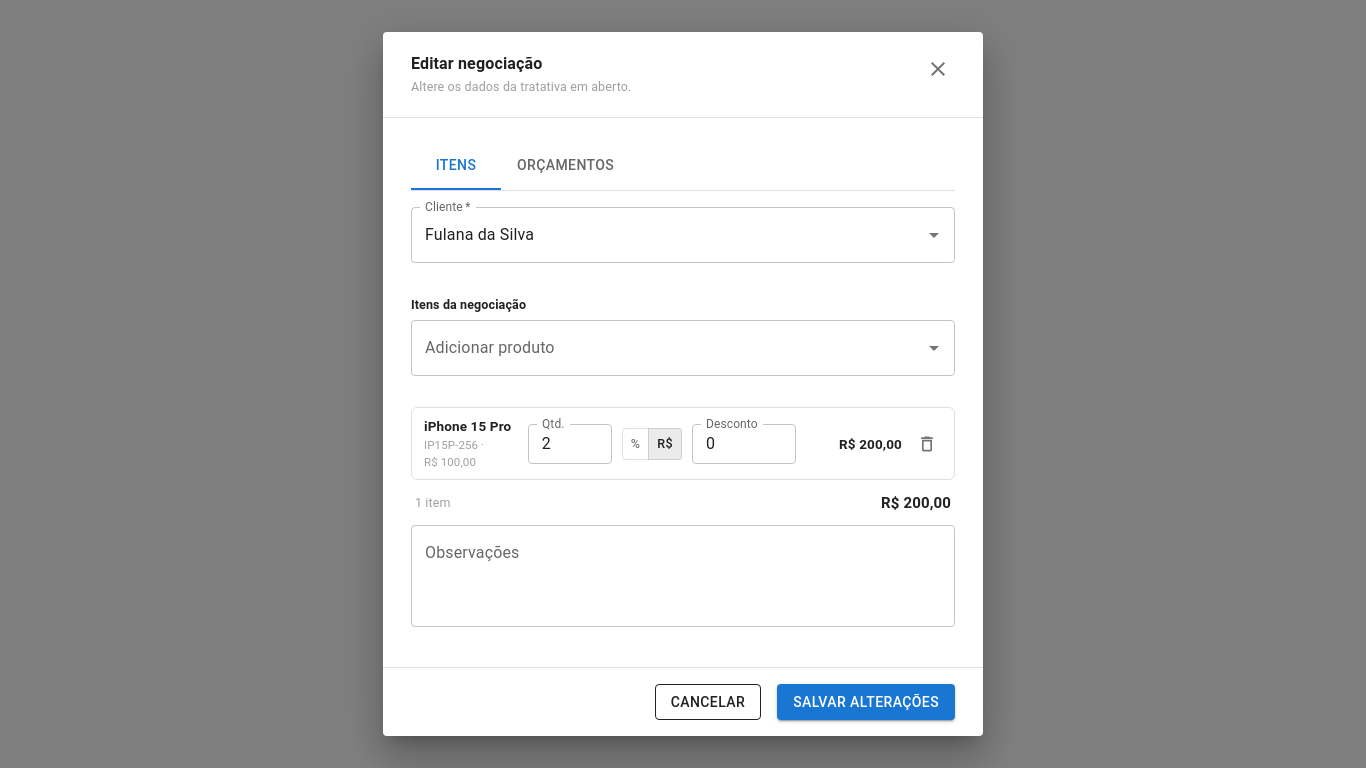
it: NegotiationFormModal — validações do item (ticket 06) › quantidade inválida aponta o erro na linha e não envia (história 44)
Click the number field labelled "Qtd.": (570, 444) x1=528 y1=424 x2=612 y2=464
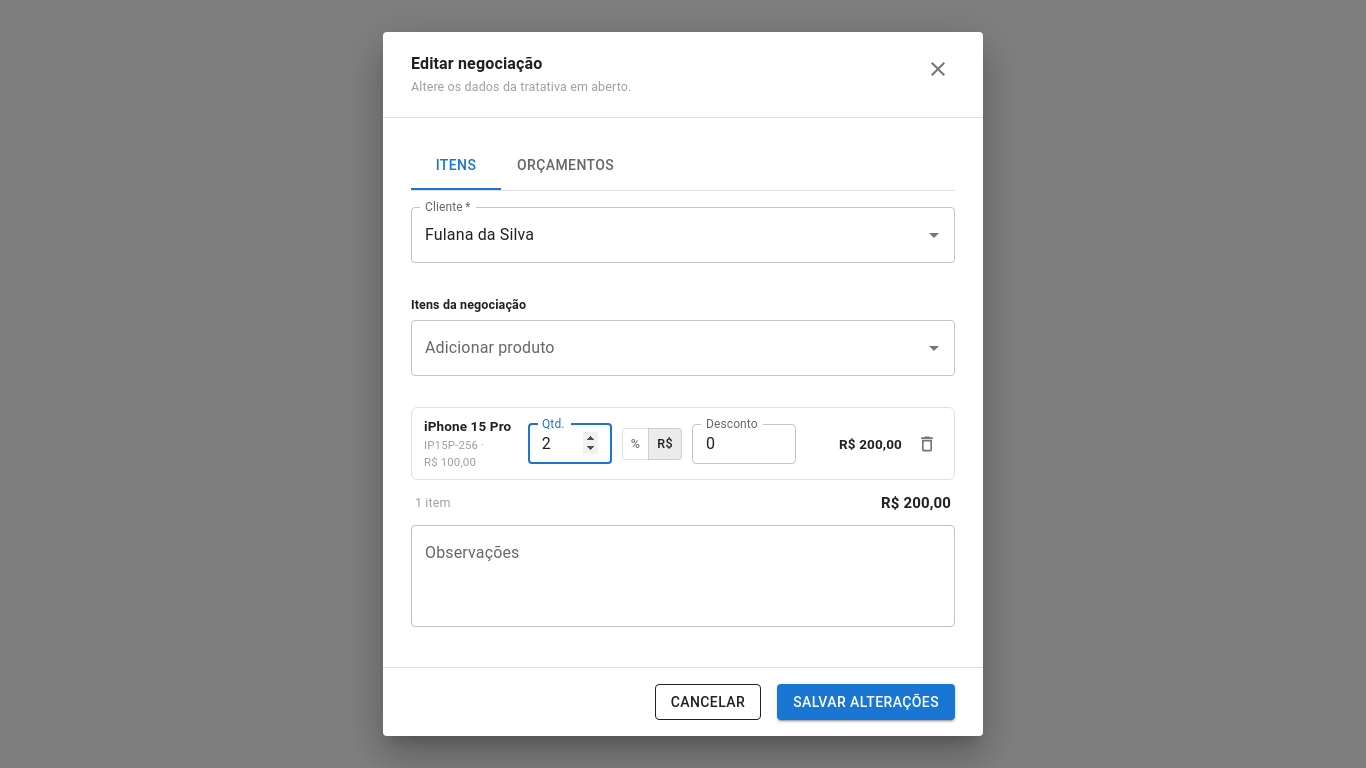
Type keys "0"
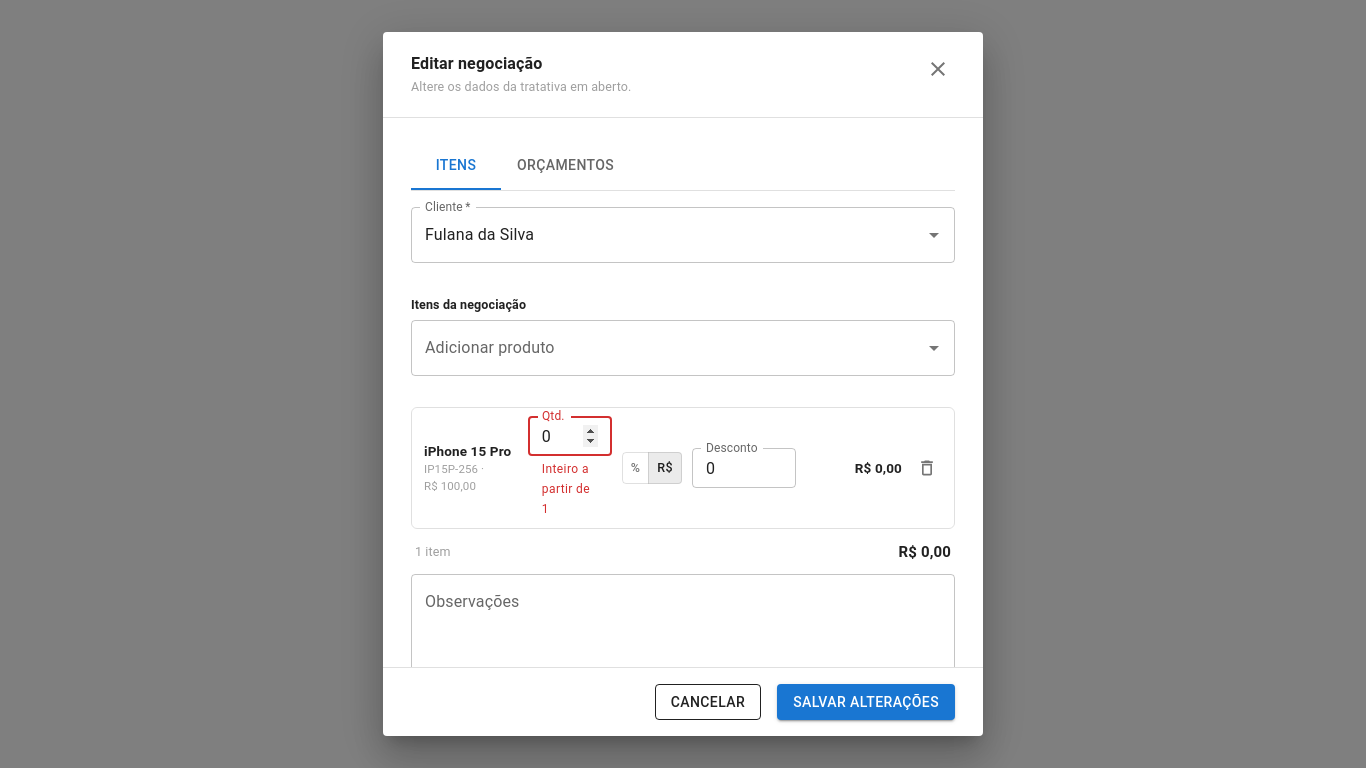
Click the button "Salvar alterações": (866, 702) x1=777 y1=684 x2=955 y2=720
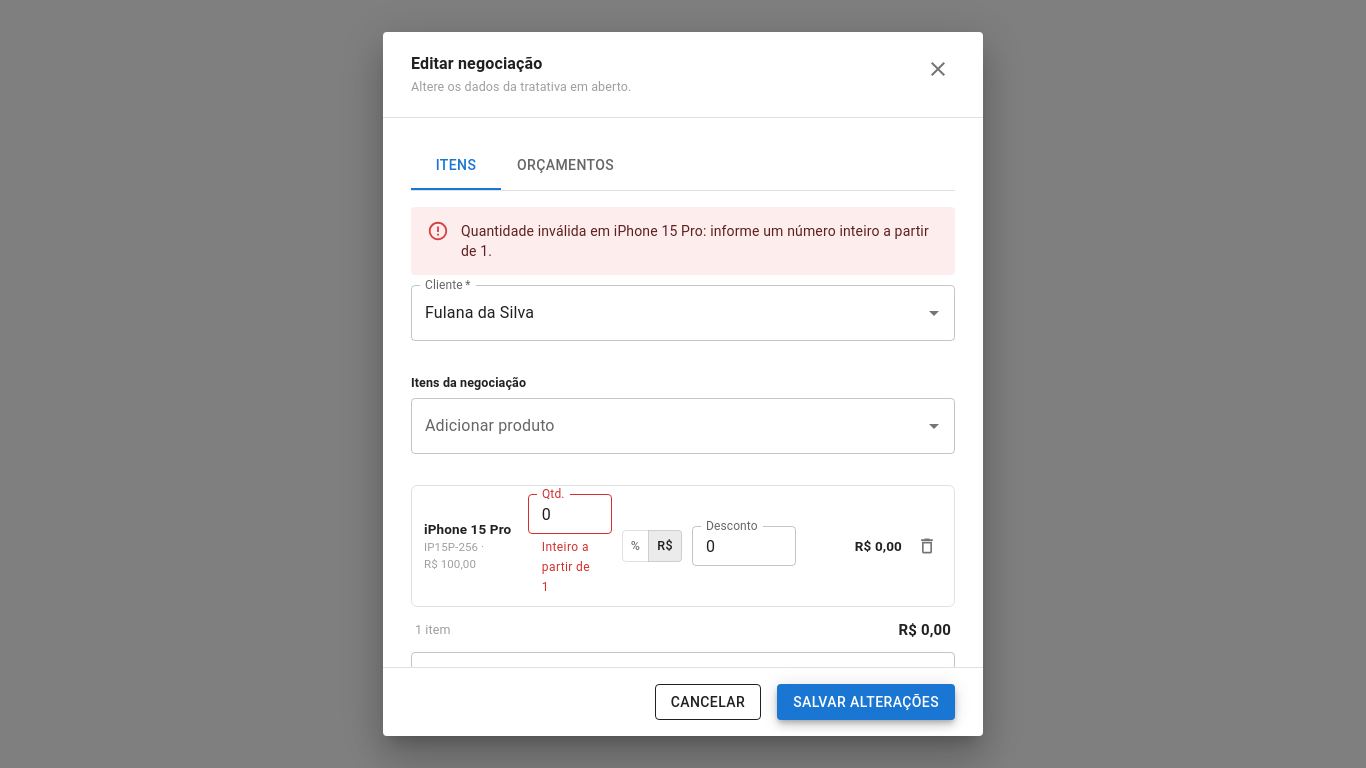
Now the text "Inteiro a partir de 1" is shown, box x1=542 y1=538 x2=598 y2=598
Now the message reads "Quantidade inválida em iPhone 15 Pro: informe um número inteiro a partir de 1.", box x1=461 y1=223 x2=929 y2=259
